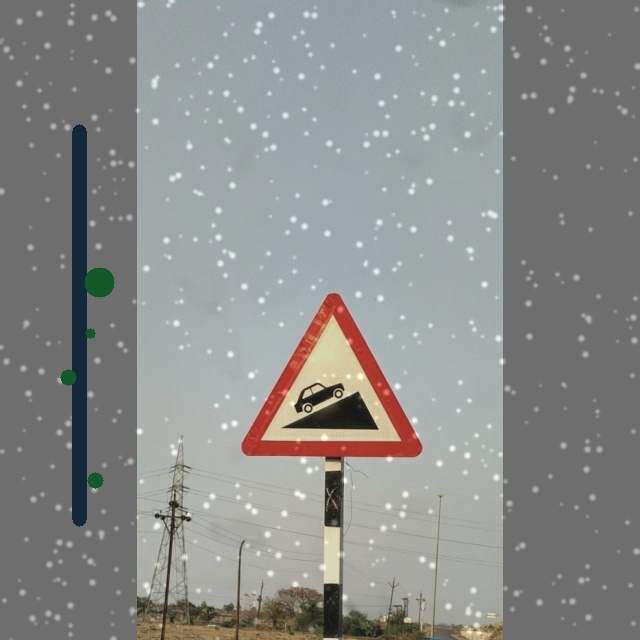Steep_Ascent: (244, 294, 424, 462)
